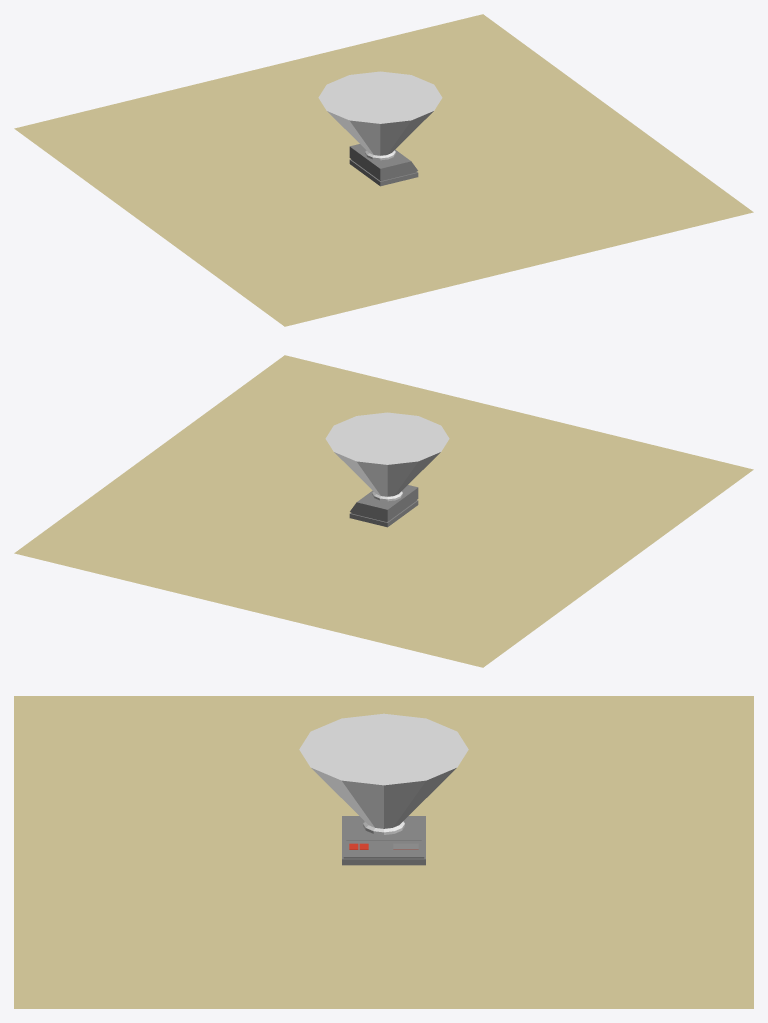
3 renders of one model, top to bottom at view 1: azimuth 30°, elevation 25°; view 2: azimuth 150°, elevation 25°; view 3: azimuth 270°, elevation 25°, orthographic. The views are drawn at different scales.
Parts seen in each view (by area): view 1: Plane.003, Circle.002, Circle.001, Plane; view 2: Plane.003, Circle.002, Circle.001, Plane; view 3: Plane.003, Circle.002, Circle.001, Plane.
Part boxes in pixels (left/top/right/bottom): Plane.003: left=14, top=14, right=753, bottom=326; Circle.002: left=318, top=71, right=442, bottom=155; Circle.001: left=327, top=111, right=433, bottom=155; Plane: left=349, top=144, right=418, bottom=186; Plane.003: left=14, top=355, right=753, bottom=667; Circle.002: left=325, top=412, right=449, bottom=496; Circle.001: left=334, top=452, right=440, bottom=496; Plane: left=349, top=485, right=418, bottom=527; Plane.003: left=14, top=696, right=753, bottom=1008; Circle.002: left=299, top=713, right=468, bottom=828; Circle.001: left=311, top=768, right=456, bottom=828; Plane: left=342, top=816, right=425, bottom=865.
Bounding box in the file's own units: 3524 × 529 × 3524.
